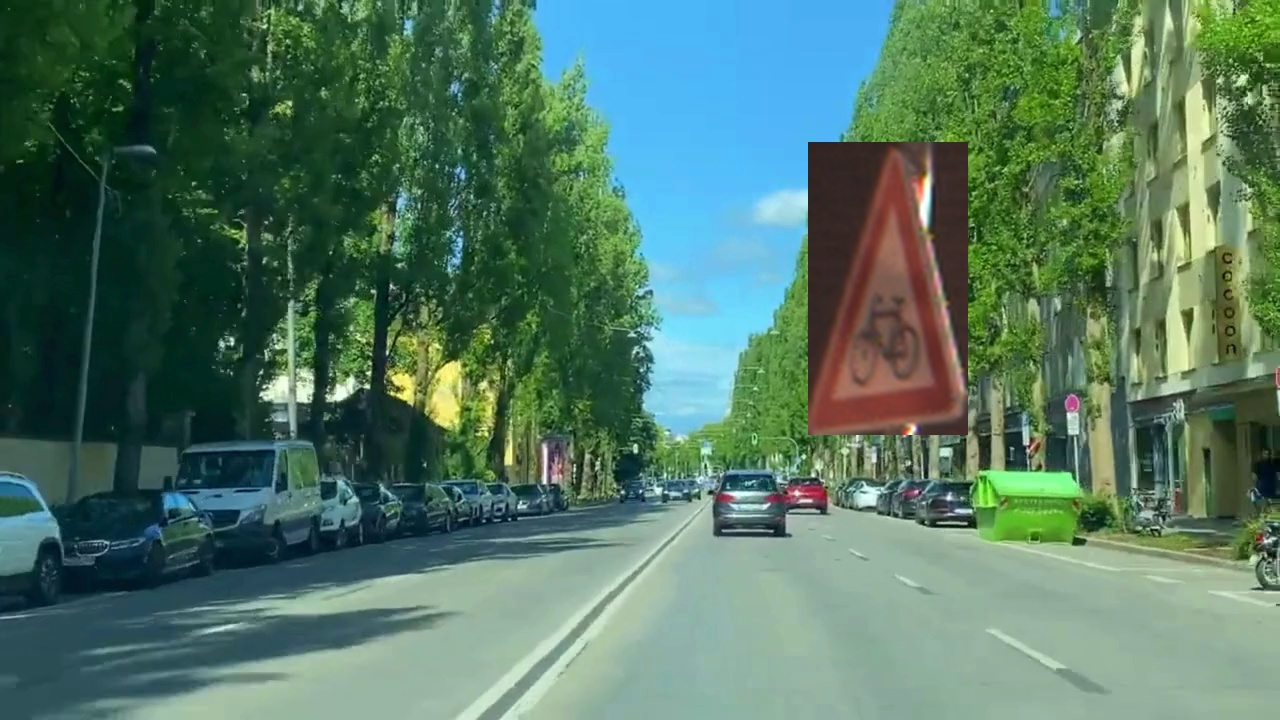Bicycles: (808, 142, 968, 435)
